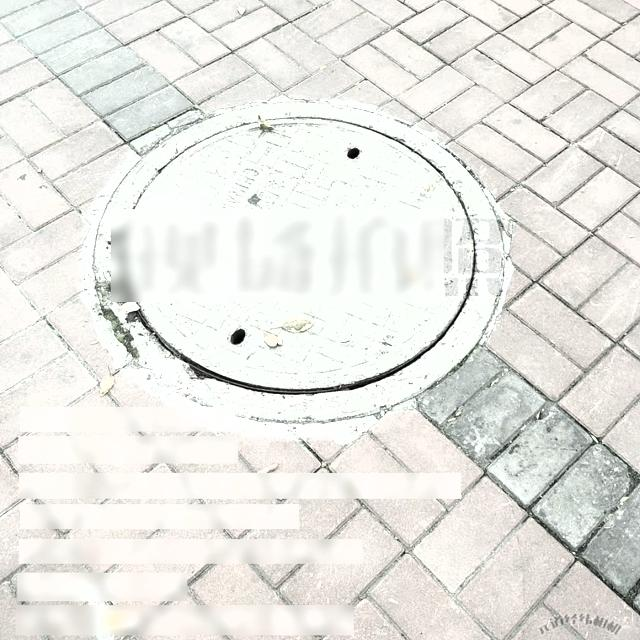good: (89, 107, 516, 428)
